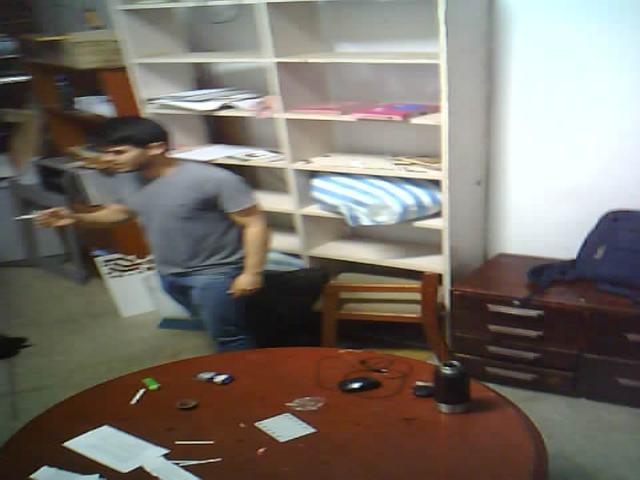person: (15, 97, 291, 375)
